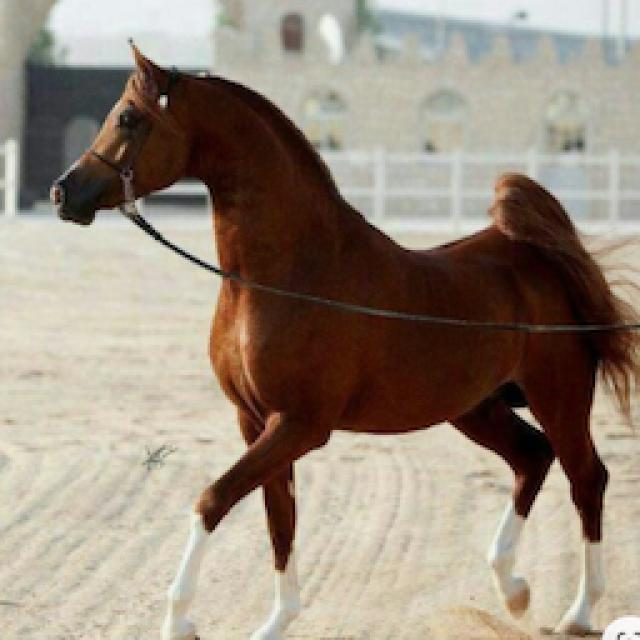Horse: (45, 35, 638, 638)
